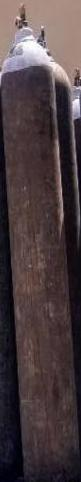cylinder: (1, 1, 81, 482)
